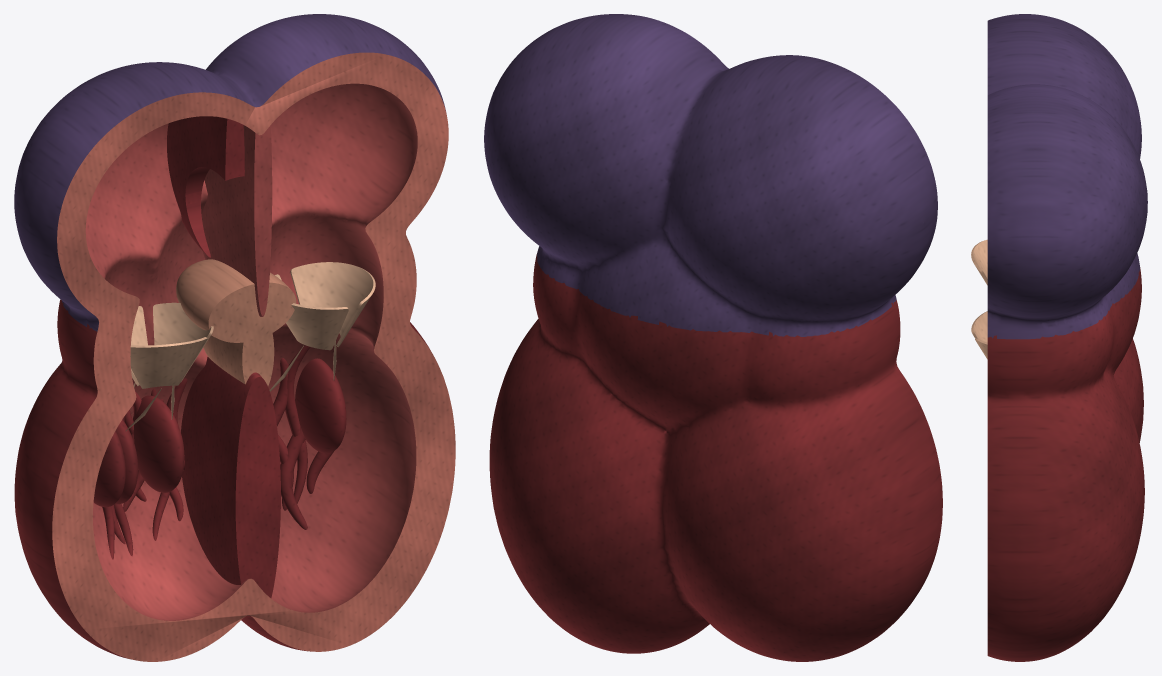
File: HeartPartition_04_Week08_FourChambers_Cutaway.glb
3 views of the same model, side by side, from view 1: azimuth 30°, elevation 25°; view 2: azimuth 150°, elevation 25°; view 3: azimuth 270°, elevation 25° (orthographic). The views are drawn at different scales.
Visible parts, largest first — view 1: VentricularWall_Posterior, AtrialWall_Posterior, MuscularInterventricularSeptum, SeptumPrimum, SeptumSecundum, VentralEndocardialCushion, Tricuspid_PapillaryPrimordium_1, Mitral_PapillaryPrimordium_1, Mitral_Leaflet_1, Tricuspid_Leaflet_3, MembranousSeptalClosure, Mitral_Leaflet_2 (+6 smaller); view 2: VentricularWall_Posterior, AtrialWall_Posterior; view 3: VentricularWall_Posterior, AtrialWall_Posterior, Tricuspid_Leaflet_3, Mitral_Leaflet_2.
Part boxes in pixels (x1,y1,x2,y2): VentricularWall_Posterior: (14, 235, 455, 661); AtrialWall_Posterior: (14, 14, 448, 334); MuscularInterventricularSeptum: (181, 357, 280, 598); SeptumPrimum: (201, 125, 272, 316); SeptumSecundum: (167, 116, 244, 257); VentralEndocardialCushion: (193, 273, 296, 342); Tricuspid_PapillaryPrimordium_1: (133, 395, 184, 492); Mitral_PapillaryPrimordium_1: (295, 358, 346, 453); Mitral_Leaflet_1: (290, 262, 375, 347); Tricuspid_Leaflet_3: (130, 337, 207, 388); MembranousSeptalClosure: (203, 333, 274, 385); Mitral_Leaflet_2: (275, 274, 348, 350); VentricularWall_Posterior: (489, 255, 942, 661); AtrialWall_Posterior: (484, 14, 937, 339); VentricularWall_Posterior: (987, 269, 1144, 661); AtrialWall_Posterior: (987, 14, 1147, 341); Tricuspid_Leaflet_3: (971, 239, 987, 285); Mitral_Leaflet_2: (971, 311, 987, 342).
Bounding box in the file's own units: 0.1421 × 0.2013 × 0.0579.
Materials: 6 (6 with a texture image).
